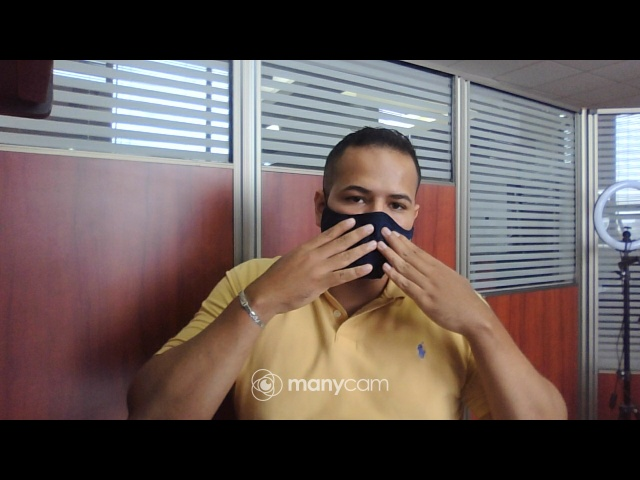Thanks: (260, 215, 522, 332)
